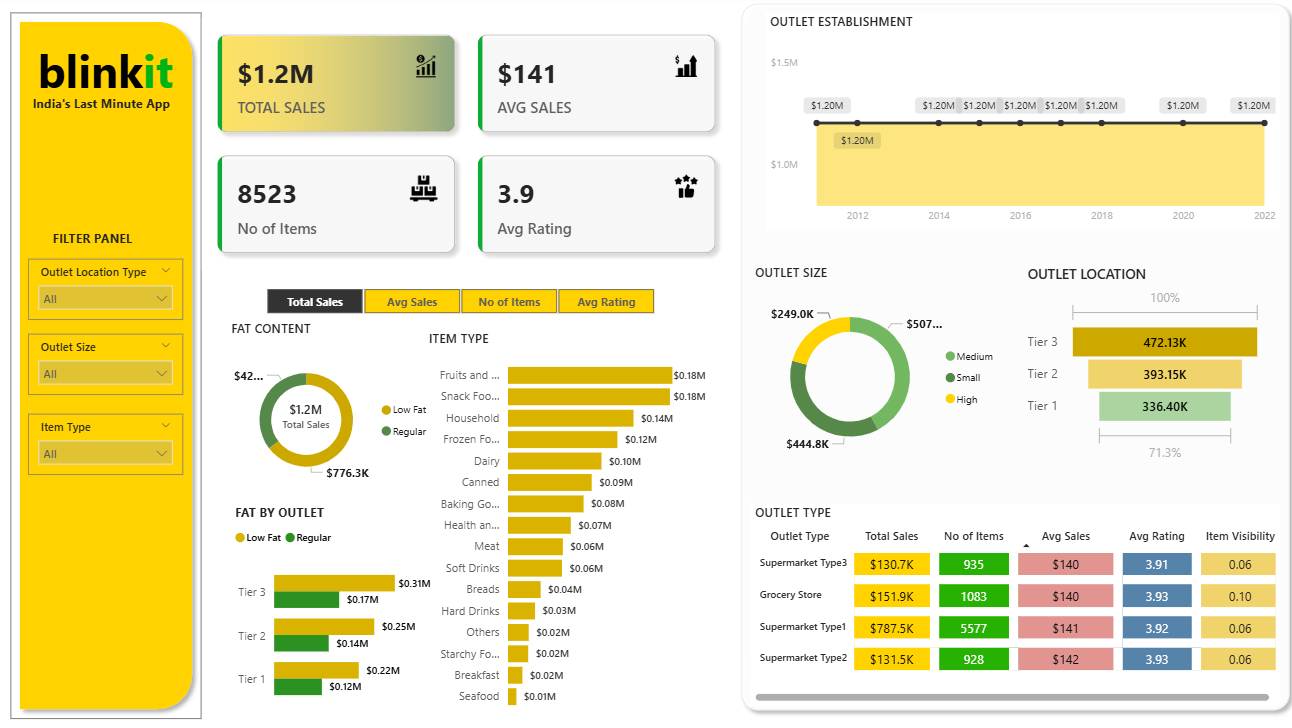

Layout of this report page (visuals, bound fields, positions):
{"tool":"powerbi","page":{"name":"Page 1","canvas":[1400,800],"ordinal":0},"visuals":[{"type":"shape","box":[18.8,0,205.1,776.1],"z":0},{"type":"textbox","box":[37.5,42.9,166.2,76.4],"z":1000},{"type":"textbox","box":[37.5,101.9,171.6,34.9],"z":2000},{"type":"cardVisual","fields":{"Data":["BlinkIT Grocery Data.Total Sales","BlinkIT Grocery Data.Avg Sales","BlinkIT Grocery Data.No of Items","BlinkIT Grocery Data.Avg Rating"]},"box":[223.9,25.5,569.7,269.4],"z":3000},{"type":"shape","box":[793.6,0,605.9,776.1],"z":4000},{"type":"donutChart","title":"FAT CONTENT","fields":{"Y":["BlinkIT Grocery Data.Total Sales"],"Category":["BlinkIT Grocery Data.Item Fat Content"]},"box":[250.7,348.5,227.9,197.1],"z":5000},{"type":"slicer","fields":{"Values":["Metrics.Metrics"]},"box":[268.1,308.3,465,40],"z":6000},{"type":"cardVisual","fields":{"Data":["BlinkIT Grocery Data.Total Sales"]},"box":[281.5,418.2,108.6,61.7],"z":7000},{"type":"clusteredBarChart","title":"FAT BY OUTLET","fields":{"Y":["BlinkIT Grocery Data.Total Sales"],"Series":["BlinkIT Grocery Data.Item Fat Content"],"Category":["BlinkIT Grocery Data.Outlet Location Type"]},"box":[254.7,545.6,219.8,230.6],"z":8000},{"type":"barChart","title":"ITEM TYPE","fields":{"Y":["BlinkIT Grocery Data.Total Sales"],"Category":["BlinkIT Grocery Data.Item Type"]},"box":[462.5,359.3,307,416.9],"z":9000},{"type":"lineChart","title":"OUTLET ESTABLISHMENT","fields":{"Y":["BlinkIT Grocery Data.Total Sales"],"Category":["BlinkIT Grocery Data (2).Outlet Establishment Year"]},"box":[828.4,18.8,552.3,234.6],"z":10000},{"type":"donutChart","title":"OUTLET SIZE","fields":{"Y":["BlinkIT Grocery Data.Total Sales"],"Category":["BlinkIT Grocery Data.Outlet Size"]},"box":[812.3,288.2,274.8,225.2],"z":11000},{"type":"funnel","title":"OUTLET LOCATION","fields":{"Category":["BlinkIT Grocery Data.Outlet Location Type"],"Y":["Sum(BlinkIT Grocery Data.Sales)"]},"box":[1104.6,288.2,261.4,217.2],"z":12000},{"type":"pivotTable","title":"OUTLET TYPE","fields":{"Values":["BlinkIT Grocery Data.Total Sales","BlinkIT Grocery Data.No of Items","BlinkIT Grocery Data.Avg Sales","BlinkIT Grocery Data.Avg Rating","Avg(BlinkIT Grocery Data.Item Visibility)"],"Rows":["BlinkIT Grocery Data.Outlet Type"]},"box":[812.3,545.6,568.4,217.2],"z":13000},{"type":"slicer","fields":{"Values":["BlinkIT Grocery Data.Outlet Location Type"]},"box":[37.5,282.8,166.2,65.7],"z":14000},{"type":"slicer","fields":{"Values":["BlinkIT Grocery Data.Outlet Size"]},"box":[37.5,363.3,166.2,65.7],"z":15000},{"type":"slicer","fields":{"Values":["BlinkIT Grocery Data.Item Type"]},"box":[37.5,449.1,166.2,65.7],"z":16000},{"type":"textbox","box":[59,246.7,150.1,36.2],"z":17000}]}

Visuals, with their boxes in screenshot pixels (x1, y1, x2, y2), scaled from the page's 1400x800 canvas onto the 1292x728 screenshot:
shape: Rect(17, 0, 207, 706)
textbox: Rect(35, 39, 188, 109)
textbox: Rect(35, 93, 193, 124)
cardVisual - BlinkIT Grocery Data.Total Sales x BlinkIT Grocery Data.Avg Sales: Rect(207, 23, 732, 268)
shape: Rect(732, 0, 1291, 706)
"FAT CONTENT" donutChart: Rect(231, 317, 442, 496)
slicer - Metrics.Metrics: Rect(247, 281, 677, 317)
cardVisual - BlinkIT Grocery Data.Total Sales: Rect(260, 381, 360, 437)
"FAT BY OUTLET" clusteredBarChart: Rect(235, 496, 438, 706)
"ITEM TYPE" barChart: Rect(427, 327, 710, 706)
"OUTLET ESTABLISHMENT" lineChart: Rect(764, 17, 1274, 231)
"OUTLET SIZE" donutChart: Rect(750, 262, 1003, 467)
"OUTLET LOCATION" funnel: Rect(1019, 262, 1261, 460)
"OUTLET TYPE" pivotTable: Rect(750, 496, 1274, 694)
slicer - BlinkIT Grocery Data.Outlet Location Type: Rect(35, 257, 188, 317)
slicer - BlinkIT Grocery Data.Outlet Size: Rect(35, 331, 188, 390)
slicer - BlinkIT Grocery Data.Item Type: Rect(35, 409, 188, 468)
textbox: Rect(54, 224, 193, 257)
